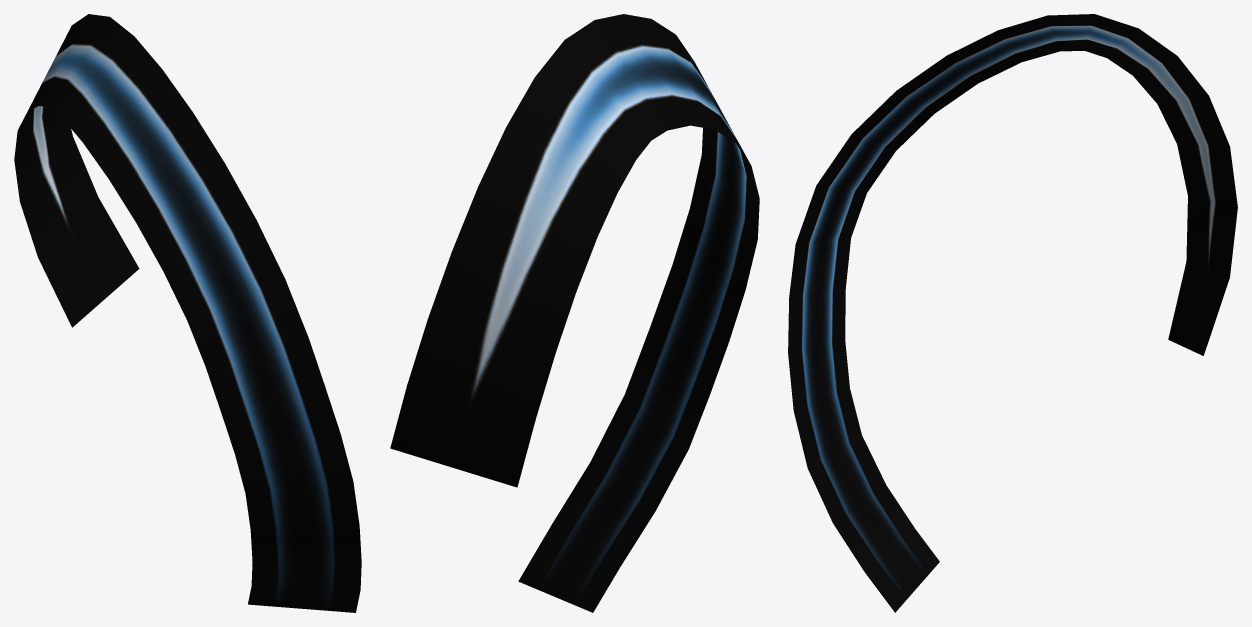
The model's file is guangtiao01.FBX.
The picture shows the model from 3 angles, left to right: view 1: azimuth 30°, elevation 25°; view 2: azimuth 150°, elevation 25°; view 3: azimuth 270°, elevation 25°; orthographic projection. The views are drawn at different scales.
Visible parts, largest first — view 1: guangtiao01; view 2: guangtiao01; view 3: guangtiao01.
Boxes of the visible parts, box(x1,y1,x2,y2) form: guangtiao01: box(14, 14, 361, 612); guangtiao01: box(390, 14, 759, 612); guangtiao01: box(788, 14, 1237, 612).
Size of the model in its own units: 67.68 by 172 by 132.
Materials: 1 (1 with a texture image).
